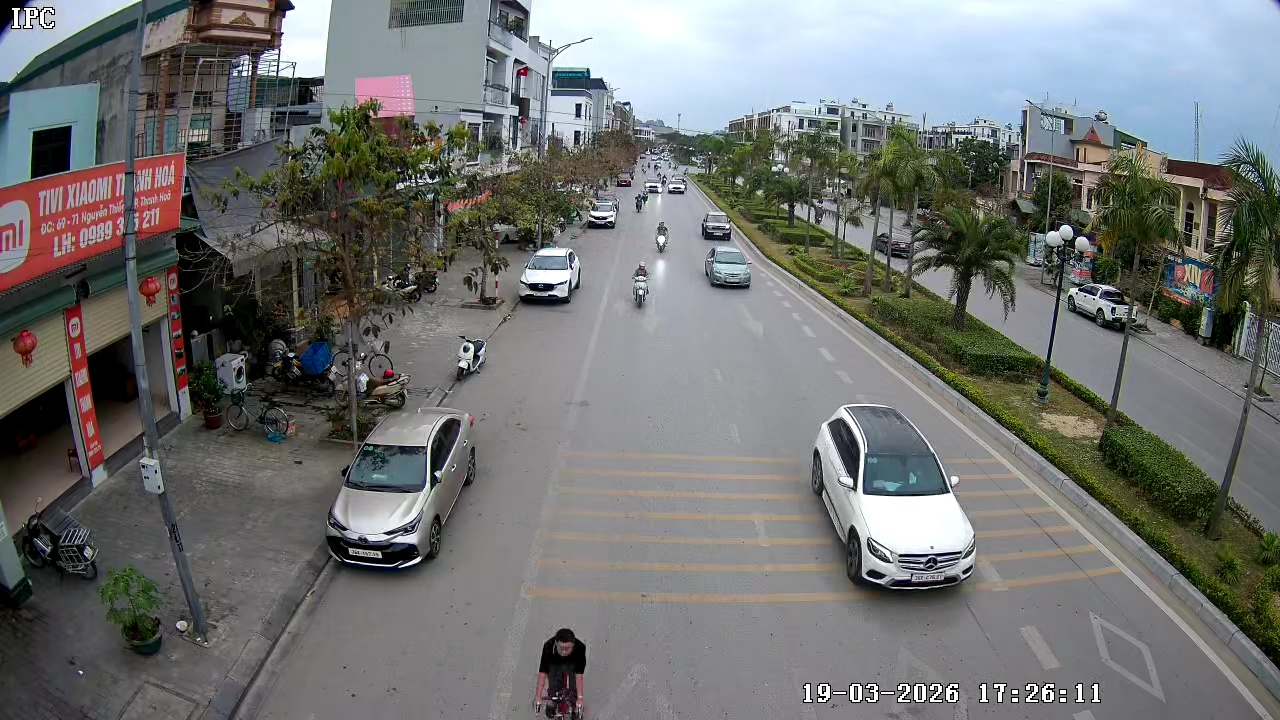bike: (530, 624, 592, 719)
car: (809, 401, 978, 587), (326, 406, 478, 571), (518, 246, 582, 304), (704, 243, 753, 290), (583, 197, 619, 228), (700, 210, 733, 241), (665, 171, 687, 194)
motorbike: (355, 340, 412, 411), (452, 332, 487, 383), (630, 259, 652, 310), (654, 218, 670, 253), (635, 184, 652, 212)
